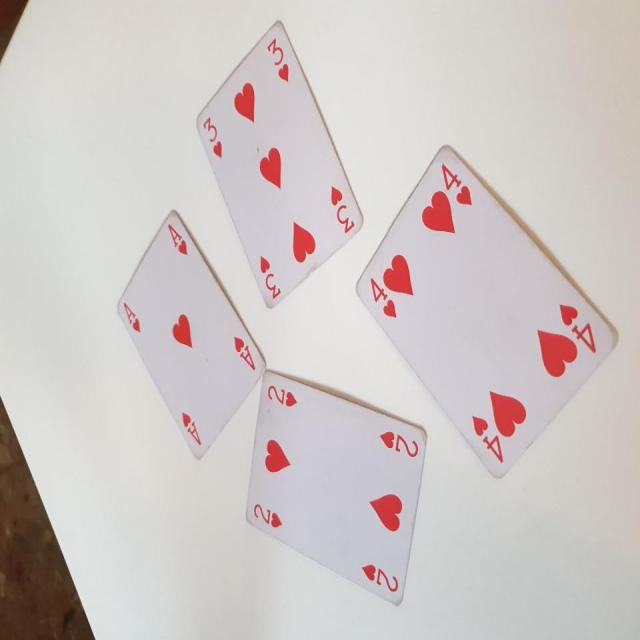2 Hearts: (239, 370, 430, 605)
3 Hearts: (192, 11, 366, 310)
4 Hearts: (343, 137, 622, 492)
A Hearts: (115, 207, 266, 464)
